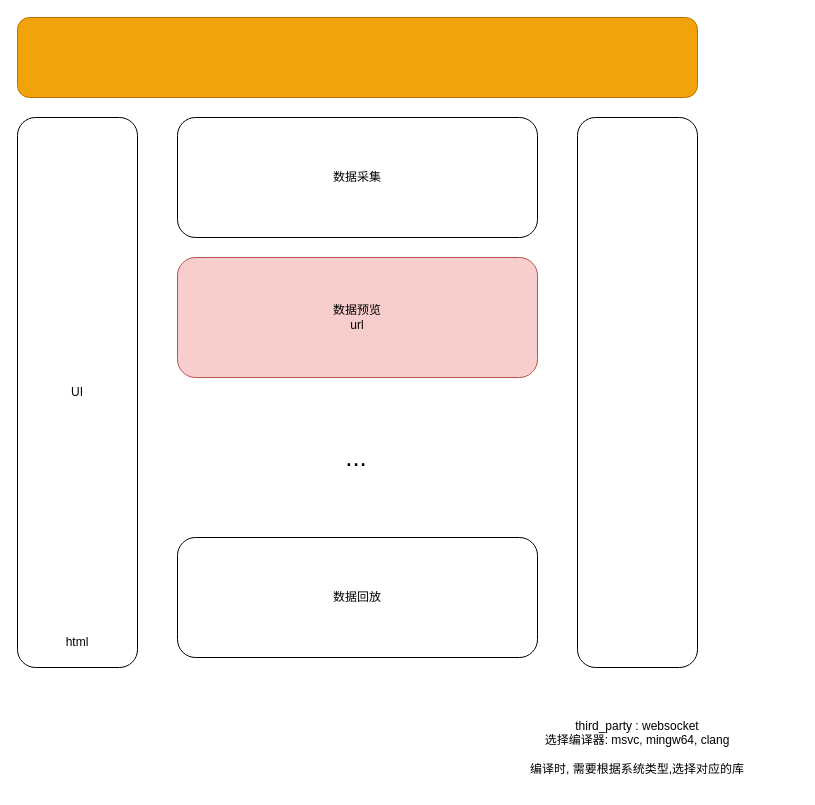
This 815x805 diagram has some shape labels left out. Each missing label, with the centre of its shape:
robot_data_platform: (x=357, y=57)
WebSocket: (x=637, y=392)
